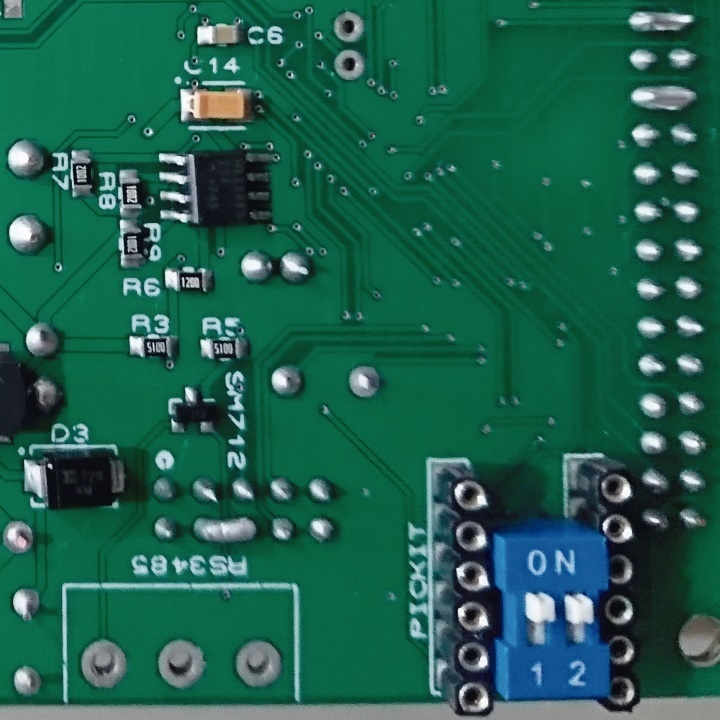F: (153, 636, 208, 694), (76, 637, 130, 692), (230, 636, 284, 691), (11, 658, 47, 703), (10, 583, 44, 630), (345, 363, 385, 402), (331, 46, 368, 86), (1, 518, 37, 558), (331, 9, 366, 43)
P: (187, 512, 261, 546), (626, 83, 700, 115), (626, 7, 699, 38)
